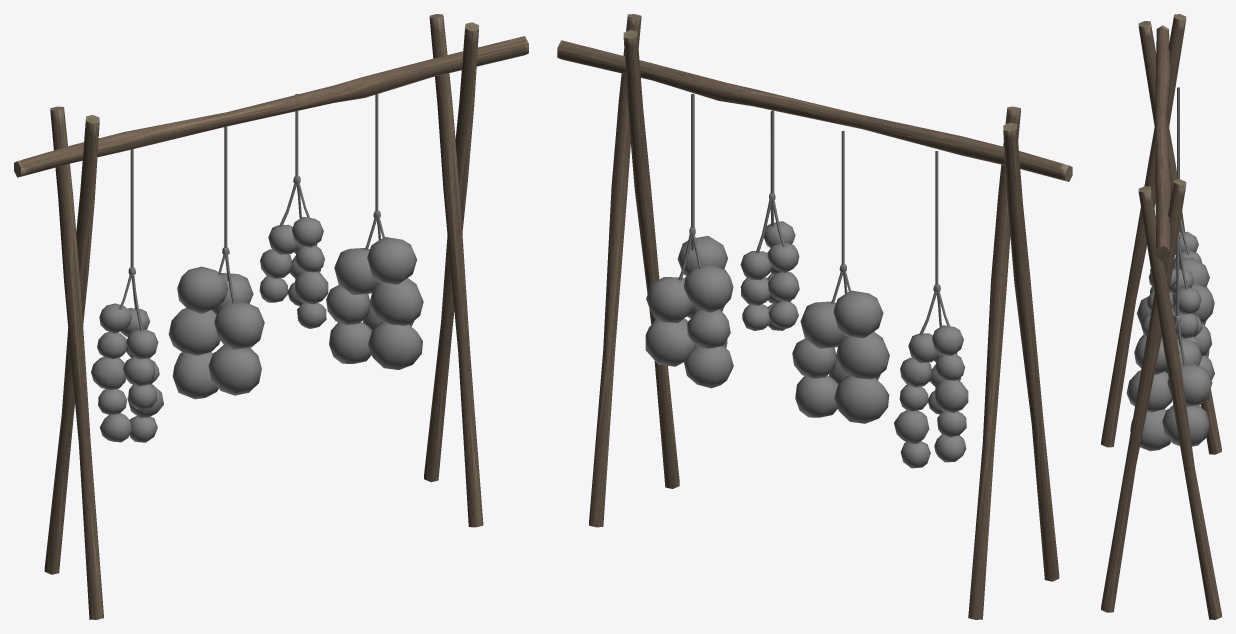
File: SM_stand_fruit.fbx
The picture shows the model from 3 angles, left to right: view 1: azimuth 30°, elevation 25°; view 2: azimuth 150°, elevation 25°; view 3: azimuth 270°, elevation 25°; orthographic projection. The views are drawn at different scales.
Visible parts, largest first — view 1: Object32569; view 2: Object32569; view 3: Object32569.
Boxes of the visible parts, x1,y1,x2,y2 form: Object32569: (14, 14, 528, 619); Object32569: (557, 14, 1072, 619); Object32569: (1101, 14, 1221, 619).
Size of the model in its own units: 59.07 by 53.61 by 13.64.
